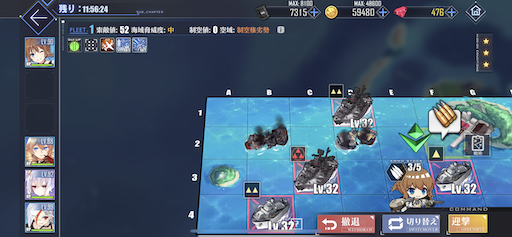lv2: (243, 182, 295, 232), (329, 83, 373, 124)
lv3: (292, 146, 340, 193)
